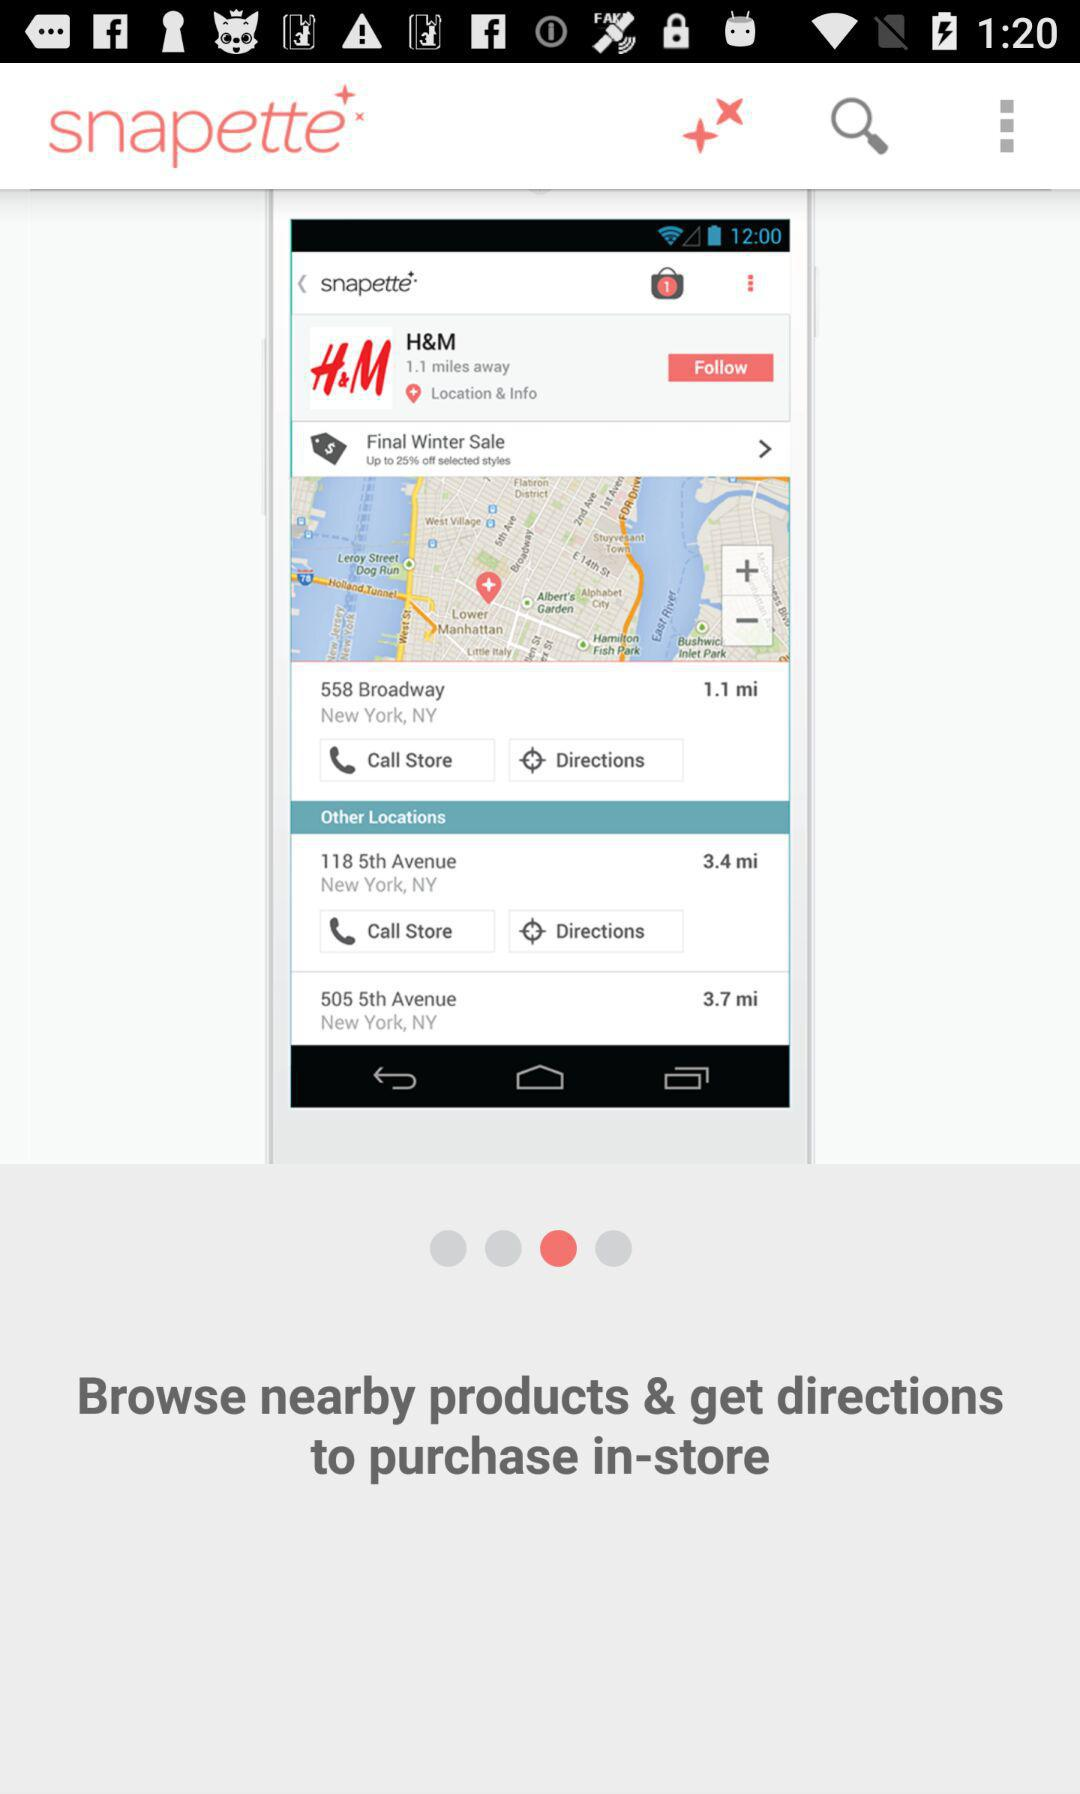Icon: (830, 97, 890, 156), (999, 99, 1016, 155)
Image: (265, 191, 817, 1165), (49, 85, 365, 170), (682, 97, 746, 155)
PageIndicator: (429, 1229, 634, 1270)
Text: (79, 1374, 1004, 1485)
Toolbar: (1, 64, 1080, 190)
UpperTaskBar: (1, 1, 1080, 64)
